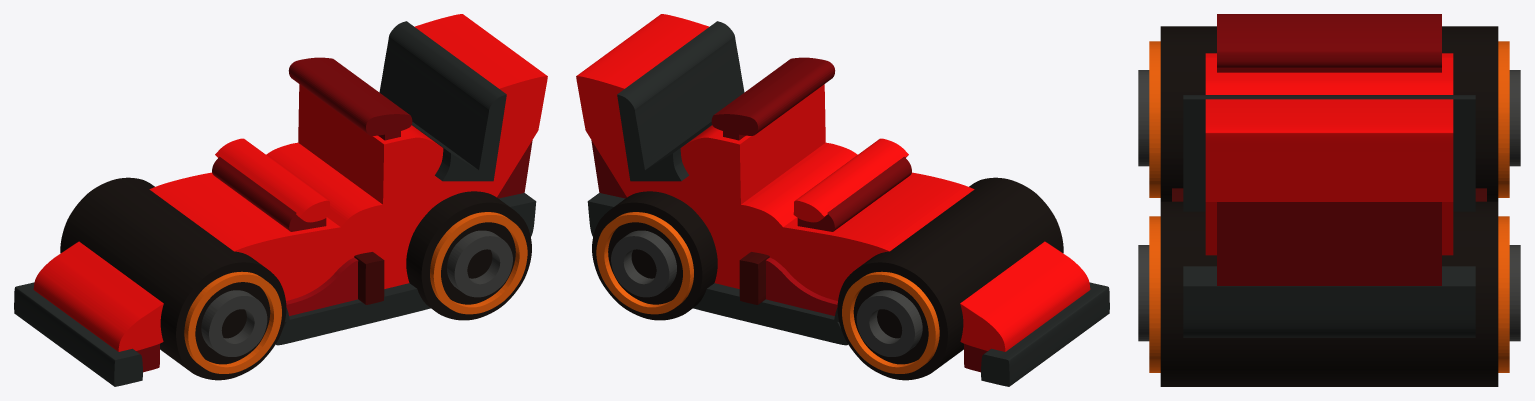
3 renders of one model, left to right at view 1: azimuth 30°, elevation 25°; view 2: azimuth 150°, elevation 25°; view 3: azimuth 270°, elevation 25°, orthographic. The views are drawn at different scales.
Visible parts, largest first — view 1: U+1F3CE_layer01_obj00, U+1F3CE_layer05_obj00, U+1F3CE_layer03_obj02, U+1F3CE_layer05_obj01, U+1F3CE_layer00_obj00, U+1F3CE_layer03_obj01, U+1F3CE_layer03_obj03, U+1F3CE_layer01_obj01, U+1F3CE_layer06_obj00, U+1F3CE_layer06_obj01, U+1F3CE_layer07_obj01, U+1F3CE_layer07_obj00 (+6 smaller); view 2: U+1F3CE_layer01_obj00, U+1F3CE_layer05_obj00, U+1F3CE_layer03_obj02, U+1F3CE_layer05_obj01, U+1F3CE_layer00_obj00, U+1F3CE_layer03_obj01, U+1F3CE_layer03_obj03, U+1F3CE_layer01_obj01, U+1F3CE_layer06_obj00, U+1F3CE_layer06_obj01, U+1F3CE_layer07_obj01, U+1F3CE_layer07_obj00 (+6 smaller); view 3: U+1F3CE_layer01_obj00, U+1F3CE_layer05_obj01, U+1F3CE_layer00_obj03, U+1F3CE_layer03_obj00, U+1F3CE_layer00_obj00, U+1F3CE_layer05_obj00, U+1F3CE_layer03_obj02, U+1F3CE_layer06_obj00, U+1F3CE_layer06_obj01, U+1F3CE_layer07_obj00, U+1F3CE_layer07_obj01, U+1F3CE_layer04_obj00.
Boxes of the visible parts, box(x1,y1,x2,y2) form: U+1F3CE_layer01_obj00: box(33, 14, 547, 351); U+1F3CE_layer05_obj00: box(60, 177, 286, 380); U+1F3CE_layer03_obj02: box(379, 21, 506, 181); U+1F3CE_layer05_obj01: box(406, 191, 531, 320); U+1F3CE_layer00_obj00: box(288, 57, 412, 140); U+1F3CE_layer03_obj01: box(14, 282, 142, 386); U+1F3CE_layer03_obj03: box(275, 283, 430, 345); U+1F3CE_layer01_obj01: box(215, 138, 330, 222); U+1F3CE_layer06_obj00: box(430, 212, 527, 314); U+1F3CE_layer06_obj01: box(184, 271, 281, 373); U+1F3CE_layer07_obj01: box(201, 290, 267, 356); U+1F3CE_layer07_obj00: box(447, 230, 512, 297); U+1F3CE_layer01_obj00: box(576, 14, 1090, 351); U+1F3CE_layer05_obj00: box(837, 177, 1063, 380); U+1F3CE_layer03_obj02: box(617, 21, 744, 181); U+1F3CE_layer05_obj01: box(592, 191, 717, 320); U+1F3CE_layer00_obj00: box(711, 57, 835, 140); U+1F3CE_layer03_obj01: box(981, 282, 1109, 386); U+1F3CE_layer03_obj03: box(693, 283, 848, 345); U+1F3CE_layer01_obj01: box(793, 138, 908, 222); U+1F3CE_layer06_obj00: box(596, 212, 693, 314); U+1F3CE_layer06_obj01: box(842, 271, 939, 373); U+1F3CE_layer07_obj01: box(856, 290, 922, 356); U+1F3CE_layer07_obj00: box(611, 230, 676, 297); U+1F3CE_layer01_obj00: box(1205, 53, 1453, 255); U+1F3CE_layer05_obj01: box(1160, 201, 1498, 386); U+1F3CE_layer00_obj03: box(1217, 202, 1441, 285); U+1F3CE_layer03_obj00: box(1183, 266, 1475, 337); U+1F3CE_layer00_obj00: box(1217, 14, 1441, 72); U+1F3CE_layer05_obj00: box(1160, 26, 1498, 201); U+1F3CE_layer03_obj02: box(1183, 95, 1475, 211); U+1F3CE_layer06_obj00: box(1149, 216, 1509, 372); U+1F3CE_layer06_obj01: box(1149, 41, 1509, 197); U+1F3CE_layer07_obj00: box(1138, 245, 1520, 341); U+1F3CE_layer07_obj01: box(1138, 70, 1520, 166); U+1F3CE_layer04_obj00: box(1172, 188, 1486, 201).
Size of the model in its own units: 0.3302 by 0.1512 by 0.17.
